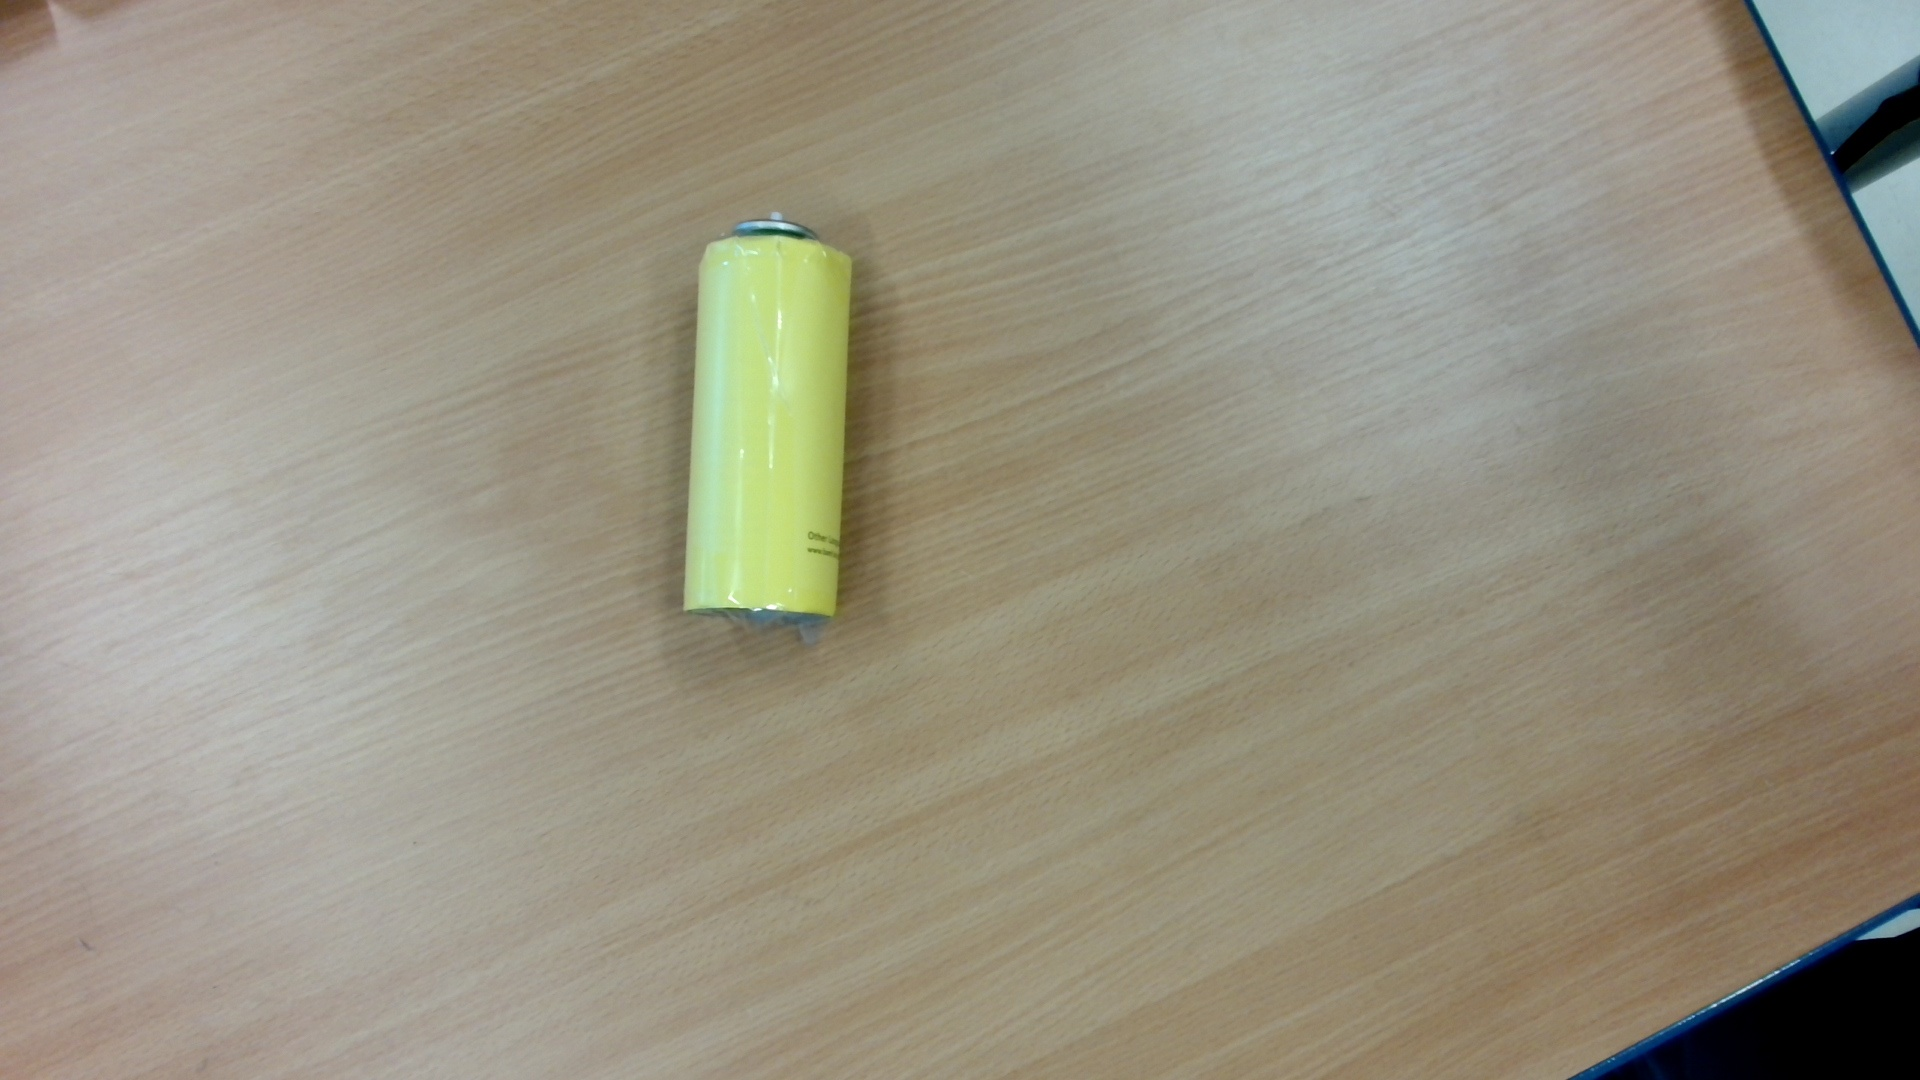Cylinder: (669, 199, 887, 659)
